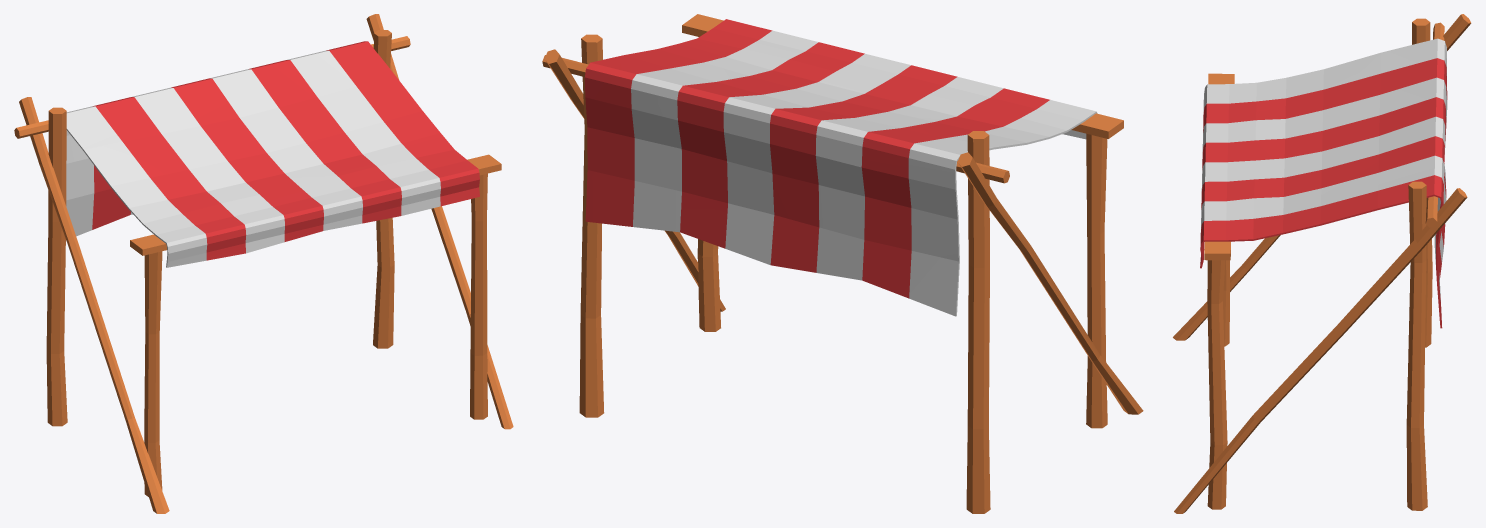
File: Stall_1.fbx
3 renders of one model, left to right at view 1: azimuth 30°, elevation 25°; view 2: azimuth 150°, elevation 25°; view 3: azimuth 270°, elevation 25°, orthographic. The views are drawn at different scales.
Parts seen in each view (by area): view 1: Stall_1; view 2: Stall_1; view 3: Stall_1.
Boxes of the visible parts, x1=… form: Stall_1: x1=14, y1=14, x2=513, y2=513; Stall_1: x1=542, y1=14, x2=1143, y2=513; Stall_1: x1=1173, y1=14, x2=1471, y2=513.
Bounding box in the file's own units: 3.9 × 3.02 × 2.53.
